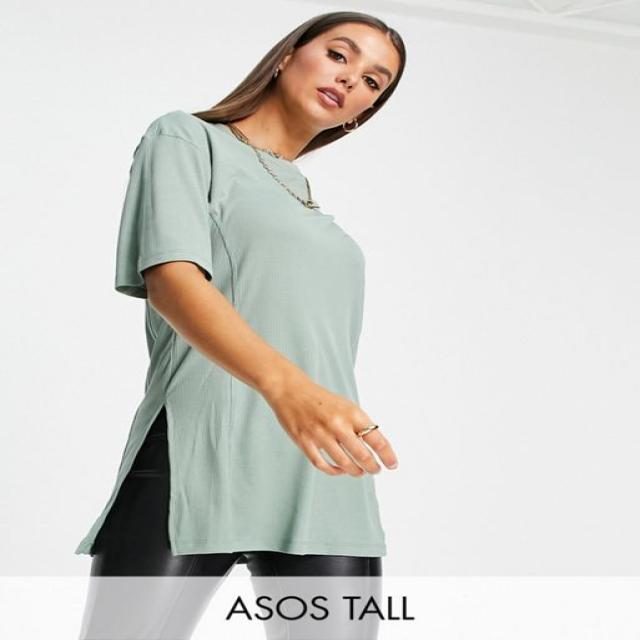tshirt: (85, 107, 394, 561)
